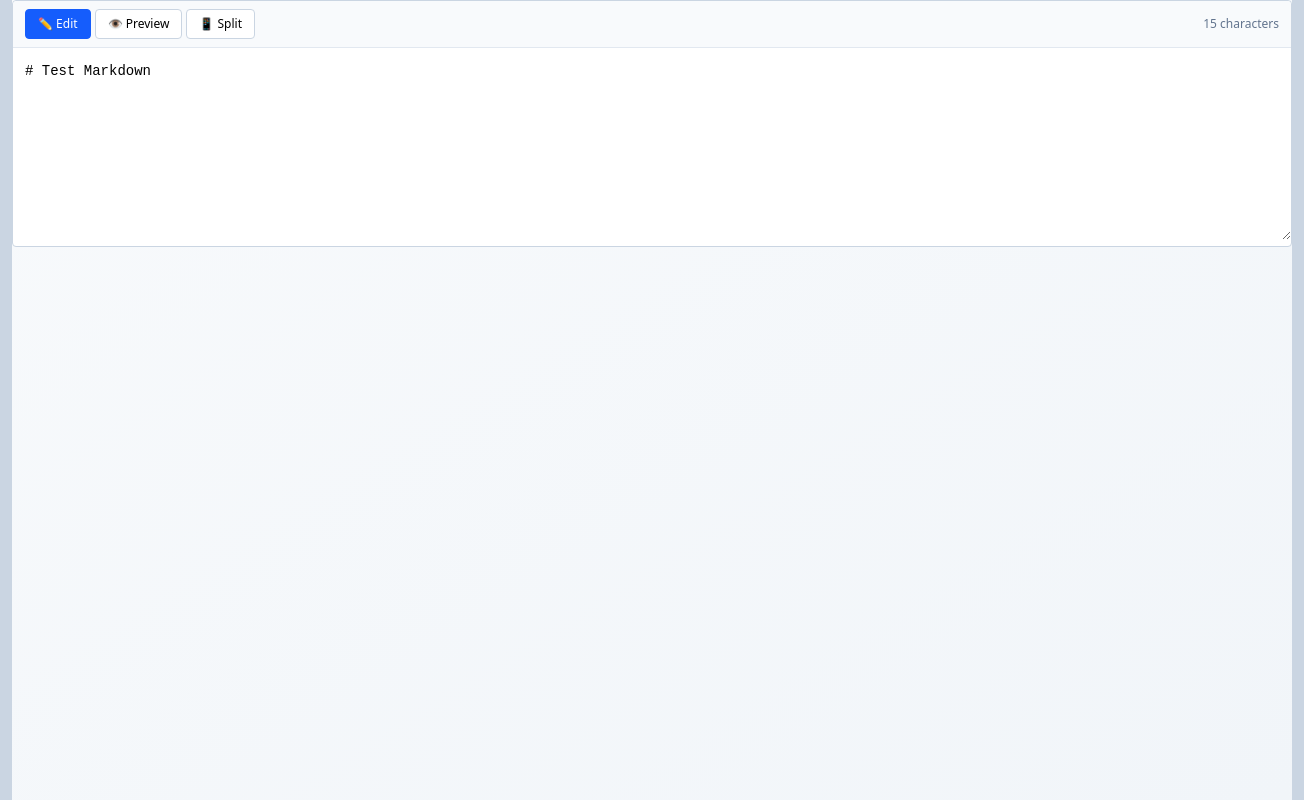
Test: MemoEditor › switches to preview mode when preview button is clicked
What coordinates should you click on to do the following:
click the button with aria-label "Preview mode"
I would click on:
 (138, 24)
Its box is [95, 9, 182, 39].
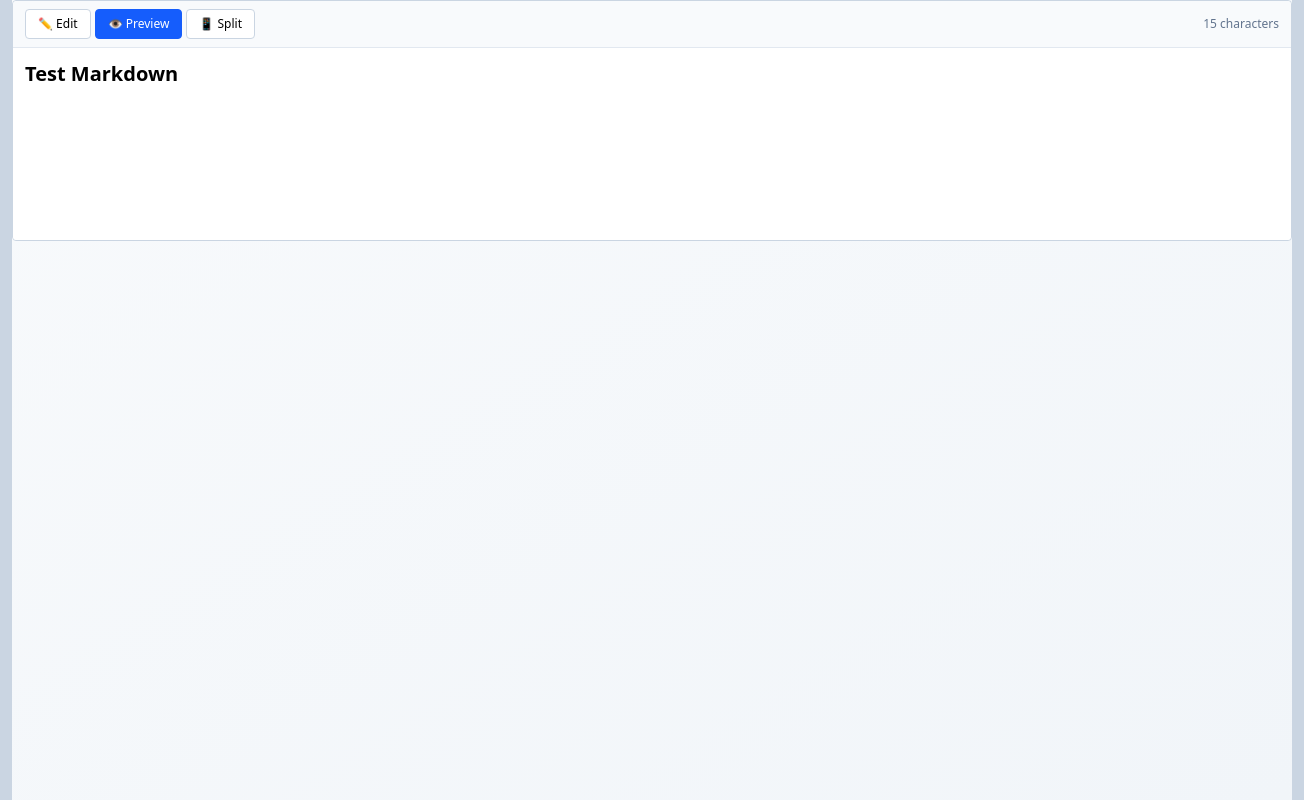
expect the element named "Memo preview" is shown: met, box [13, 48, 1291, 240]
